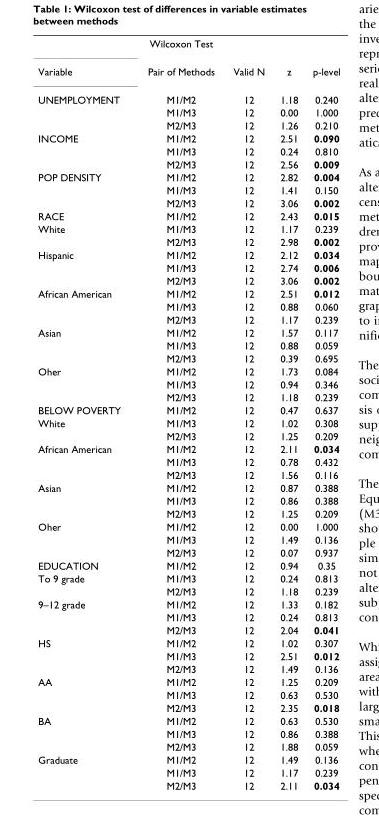table: (37, 37, 339, 791)
table column: (37, 37, 133, 791), (133, 37, 223, 791), (223, 37, 271, 791), (304, 37, 339, 791), (271, 37, 304, 791)
table column header: (37, 37, 339, 85)
table row: (37, 57, 339, 85), (37, 37, 339, 57), (37, 85, 339, 105), (37, 105, 339, 118), (37, 118, 339, 131), (37, 131, 339, 144), (37, 144, 339, 157), (37, 157, 339, 170), (37, 170, 339, 183), (37, 183, 339, 196), (37, 196, 339, 209), (37, 209, 339, 222), (37, 234, 339, 247), (37, 247, 339, 260), (37, 260, 339, 273), (37, 273, 339, 286), (37, 286, 339, 299), (37, 299, 339, 312), (37, 312, 339, 325), (37, 325, 339, 338), (37, 338, 339, 351), (37, 351, 339, 364), (37, 364, 339, 377), (37, 377, 339, 390), (37, 390, 339, 403), (37, 403, 339, 416), (37, 416, 339, 429), (37, 429, 339, 442), (37, 442, 339, 455), (37, 455, 339, 468), (37, 480, 339, 493), (37, 493, 339, 506), (37, 506, 339, 519), (37, 519, 339, 532), (37, 532, 339, 545), (37, 545, 339, 558), (37, 558, 339, 571), (37, 571, 339, 584), (37, 584, 339, 597), (37, 597, 339, 610), (37, 610, 339, 623), (37, 623, 339, 636), (37, 636, 339, 649), (37, 649, 339, 662), (37, 662, 339, 675), (37, 675, 339, 688), (37, 700, 339, 713), (37, 713, 339, 726), (37, 726, 339, 739), (37, 739, 339, 752), (37, 752, 339, 765), (37, 765, 339, 778), (37, 778, 339, 791), (37, 222, 339, 234), (37, 468, 339, 480), (37, 688, 339, 700)
table spanning cell: (37, 37, 133, 85), (37, 85, 133, 131), (133, 37, 339, 57), (37, 131, 133, 170), (37, 170, 133, 209), (37, 247, 133, 286), (37, 286, 133, 325), (37, 325, 133, 364), (37, 364, 133, 403), (37, 480, 133, 519), (37, 519, 133, 558), (37, 597, 133, 636), (37, 636, 133, 675), (37, 713, 133, 752), (37, 752, 133, 791), (37, 442, 133, 480), (37, 675, 133, 713), (37, 416, 133, 442), (37, 571, 133, 597), (37, 222, 133, 247)
